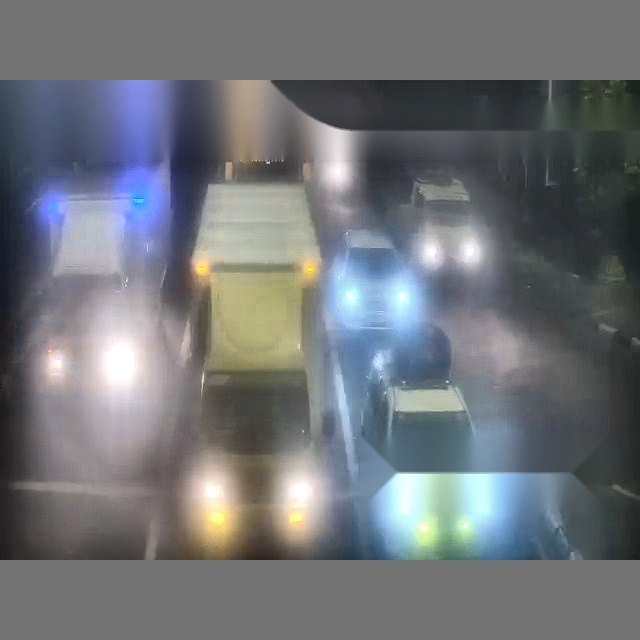Truk: (188, 199, 324, 552), (413, 178, 481, 284)
